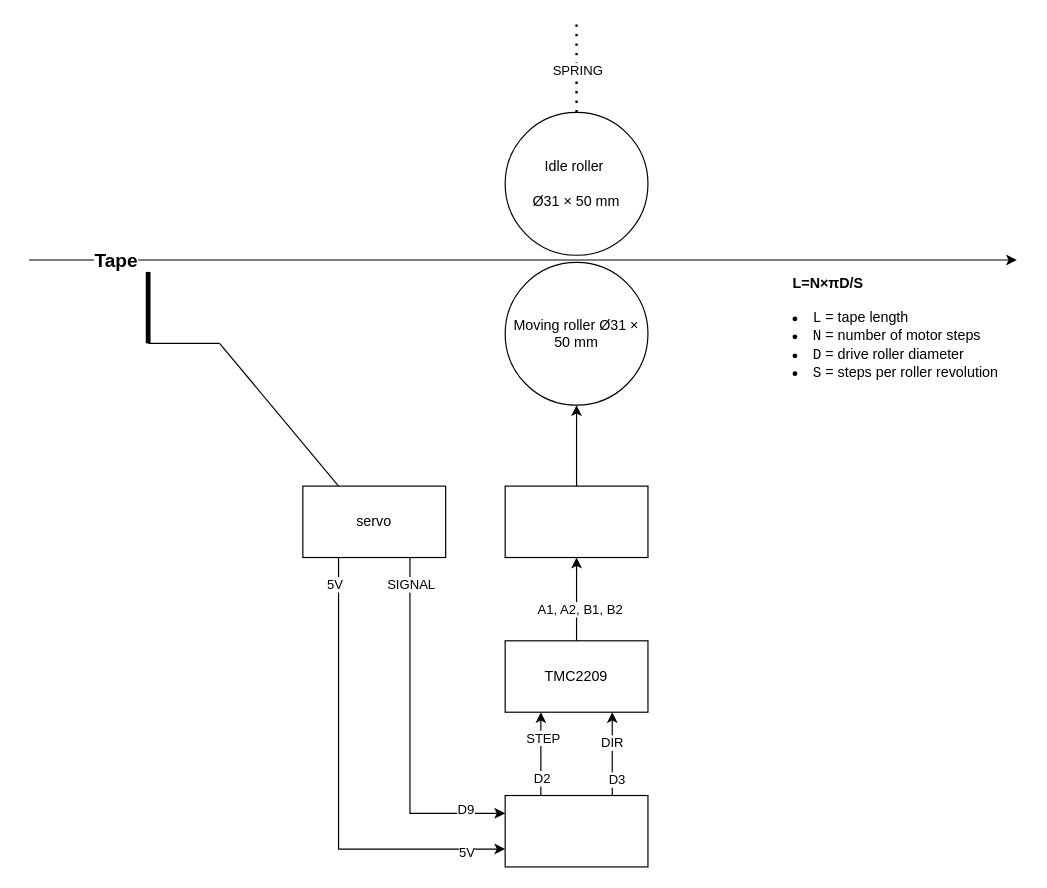
Image size: 1047x888. Some labels were removed from this diagram. The centre of each missing label's shape, as x and y in pixels:
"Arduino NANO" belongs at (576,830).
"NEMA 17" belongs at (576,521).
